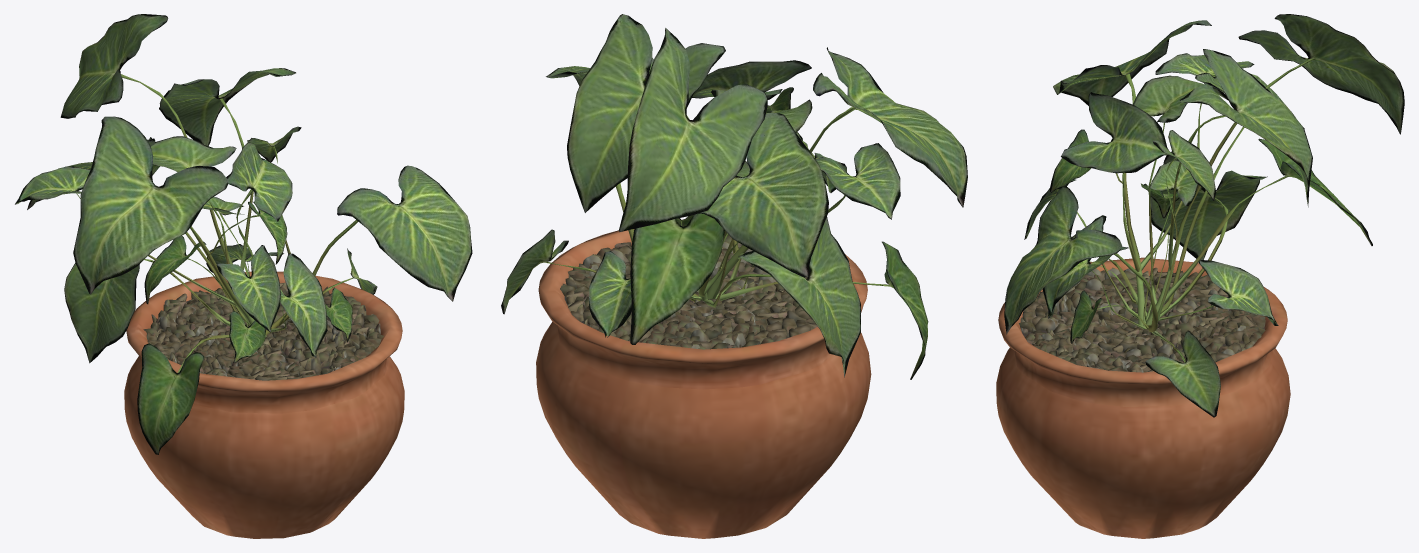
Rendered from th_topfpflanze.glb.
3 renders of one model, left to right at view 1: azimuth 30°, elevation 25°; view 2: azimuth 150°, elevation 25°; view 3: azimuth 270°, elevation 25°, orthographic. The views are drawn at different scales.
Visible parts, largest first — view 1: potted_plant_02_leaves, potted_plant_02_pot, potted_plant_02_dirt; view 2: potted_plant_02_leaves, potted_plant_02_pot, potted_plant_02_dirt; view 3: potted_plant_02_leaves, potted_plant_02_pot, potted_plant_02_dirt.
Part boxes in pixels (bbox=[...]): potted_plant_02_leaves: bbox=[15, 14, 472, 454]; potted_plant_02_pot: bbox=[124, 271, 404, 538]; potted_plant_02_dirt: bbox=[143, 282, 383, 380]; potted_plant_02_leaves: bbox=[501, 14, 967, 379]; potted_plant_02_pot: bbox=[536, 219, 871, 538]; potted_plant_02_dirt: bbox=[560, 233, 817, 349]; potted_plant_02_leaves: bbox=[1004, 14, 1404, 417]; potted_plant_02_pot: bbox=[996, 257, 1290, 538]; potted_plant_02_dirt: bbox=[1019, 267, 1265, 372].
Bounding box in the file's own units: 0.7009 × 0.8412 × 0.6561.
Materials: 2 (2 with a texture image).
